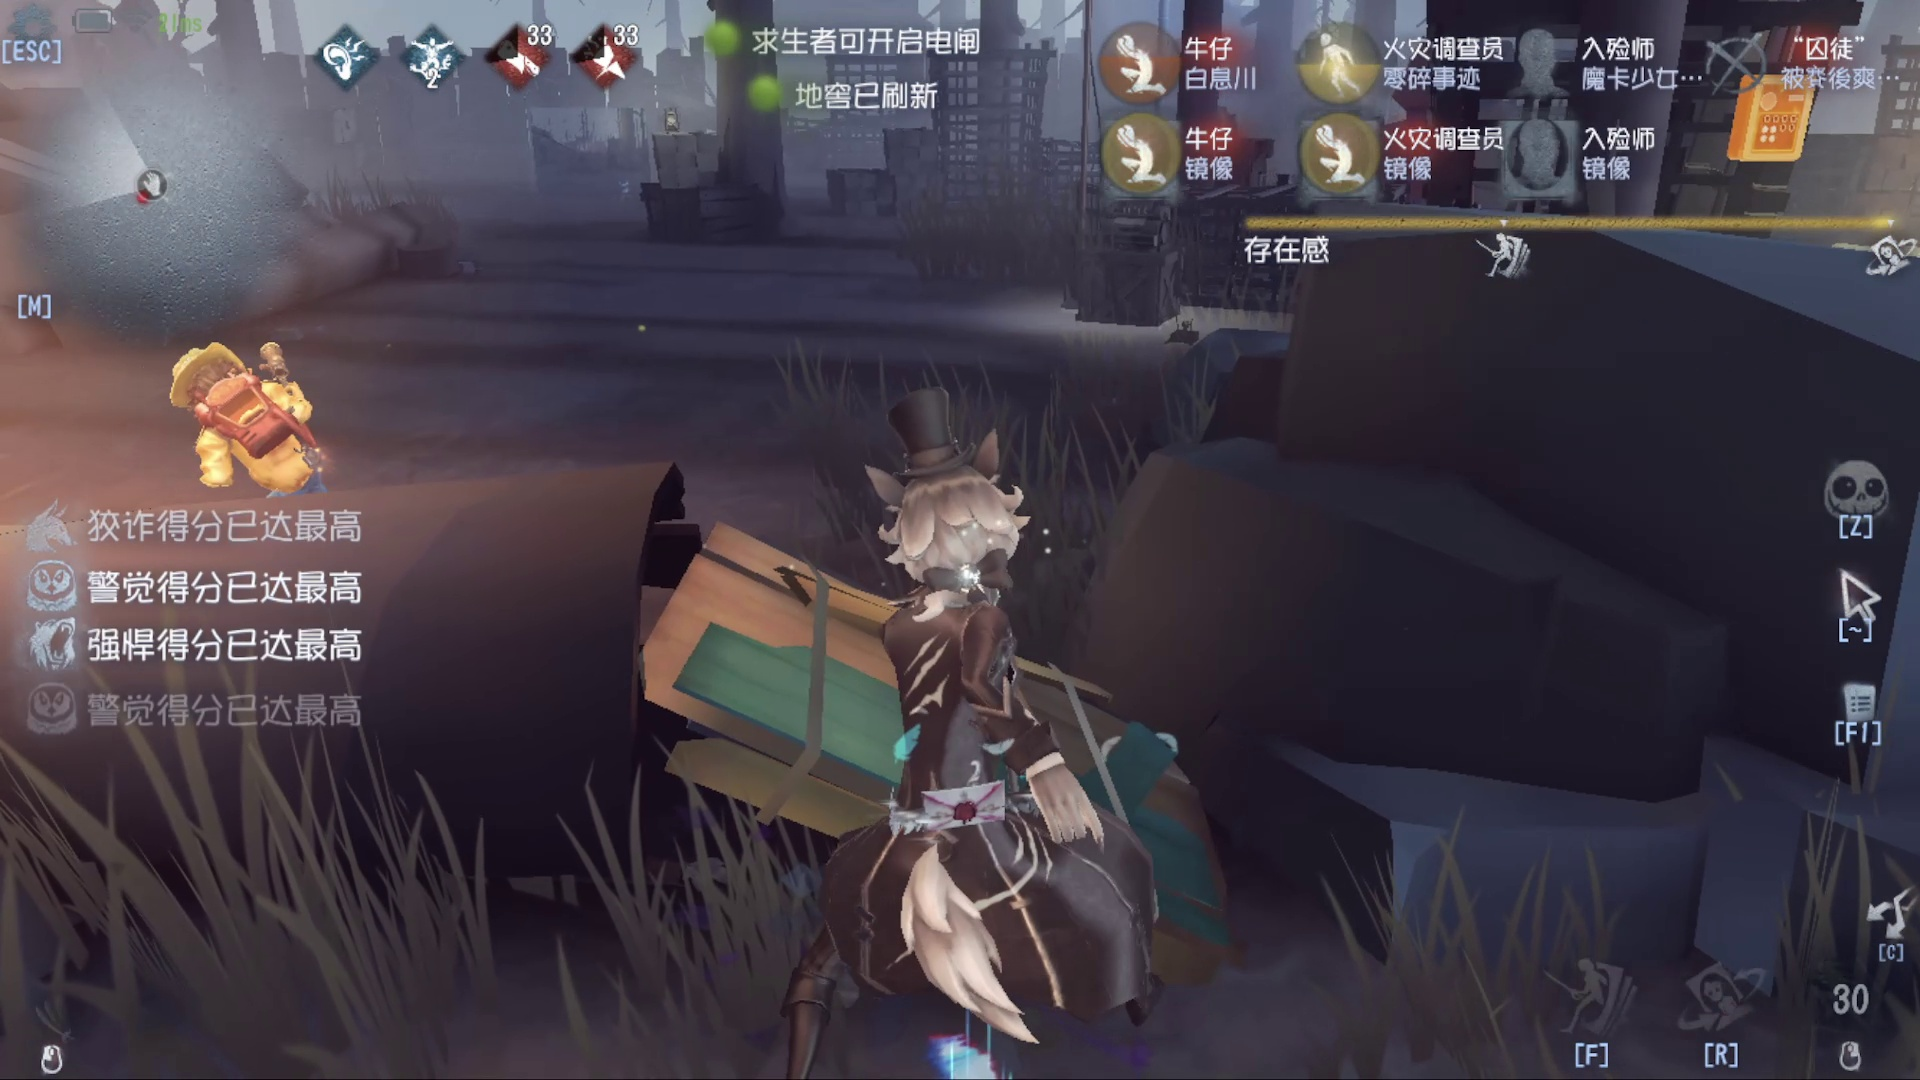木板: (638, 513, 1263, 948)
求生者: (171, 319, 359, 520)
